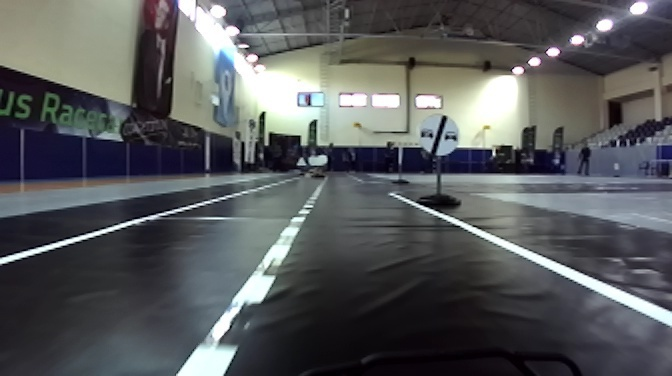sollama_serbest: (418, 114, 460, 157)
